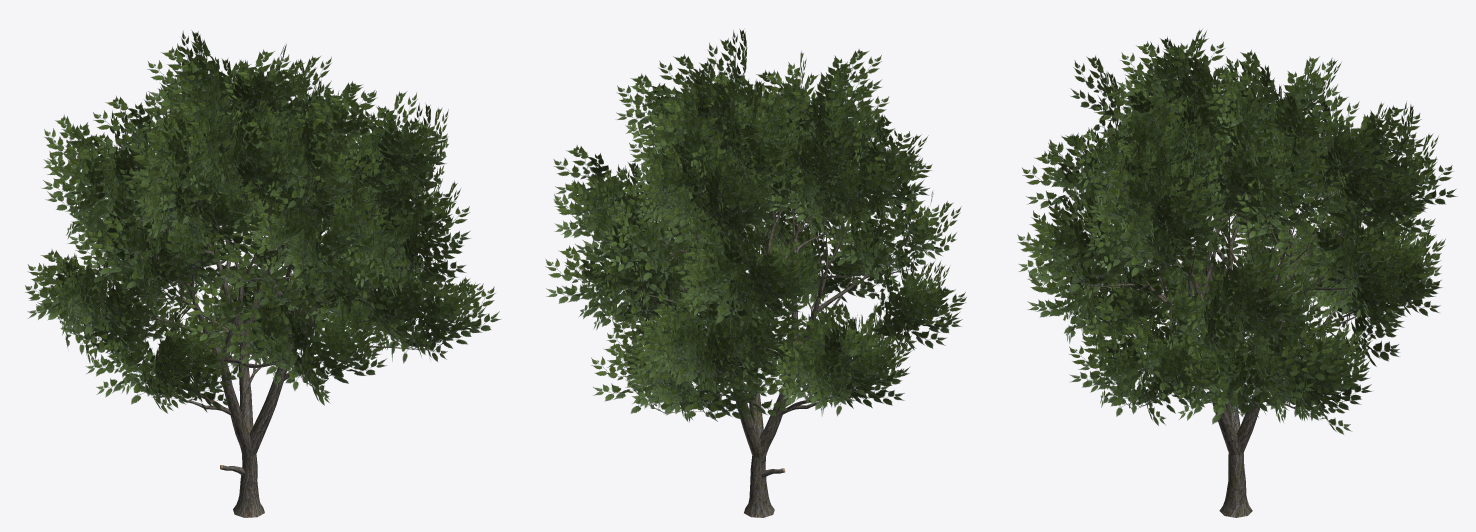
The model's file is tree_elm.glb.
3 views of the same model, side by side, from view 1: azimuth 30°, elevation 25°; view 2: azimuth 150°, elevation 25°; view 3: azimuth 270°, elevation 25° (orthographic). The views are drawn at different scales.
Visible parts, largest first — view 1: tree, Plane.453, Plane.303, Plane.495, Plane.302, Plane.050, Plane.095, Plane.517, Plane.489, Plane.173, Plane.141, Plane.476 (+97 smaller); view 2: tree, Plane.490, Plane.295, Plane.426, Plane.335, Plane.294, Plane.041, Plane.236, Plane.371, Plane.472, Plane.473, Plane.396 (+100 smaller); view 3: tree, Plane.221, Plane.343, Plane.291, Plane.076, Plane.040, Plane.282, Plane.189, Plane.167, Plane.161, Plane.051, Plane.042 (+108 smaller).
Boxes of the visible parts, x1,y1,x2,y2 form: tree: (89, 171, 438, 517); Plane.453: (185, 282, 268, 353); Plane.303: (87, 215, 170, 289); Plane.495: (128, 127, 212, 204); Plane.302: (151, 229, 239, 292); Plane.050: (224, 231, 305, 309); Plane.095: (308, 199, 391, 264); Plane.517: (304, 328, 388, 383); Plane.489: (41, 142, 120, 225); Plane.173: (375, 119, 440, 177); Plane.141: (302, 144, 384, 214); Plane.476: (315, 258, 398, 314); tree: (614, 156, 916, 517); Plane.490: (868, 197, 944, 267); Plane.295: (603, 212, 680, 280); Plane.426: (710, 364, 795, 421); Plane.335: (683, 257, 744, 323); Plane.294: (574, 209, 645, 288); Plane.041: (545, 245, 622, 317); Plane.236: (591, 343, 673, 413); Plane.371: (649, 97, 717, 166); Plane.472: (832, 342, 911, 396); Plane.473: (775, 345, 851, 410); Plane.396: (847, 155, 924, 214); tree: (1068, 137, 1377, 517); Plane.221: (1087, 165, 1162, 244); Plane.343: (1017, 217, 1097, 287); Plane.291: (1280, 219, 1367, 288); Plane.076: (1117, 41, 1182, 114); Plane.040: (1261, 322, 1337, 390); Plane.282: (1230, 342, 1317, 407); Plane.189: (1236, 174, 1319, 233); Plane.167: (1276, 56, 1340, 135); Plane.161: (1210, 114, 1292, 173); Plane.051: (1236, 178, 1316, 249); Plane.042: (1329, 171, 1402, 224).
Bounding box in the file's own units: 22.95 × 22.31 × 20.17.
3 materials, 3 textured.
